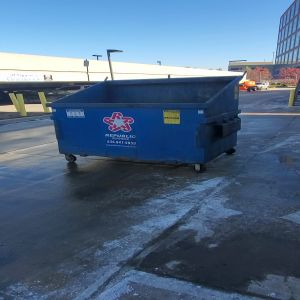Dumpster: (46, 77, 244, 173)
